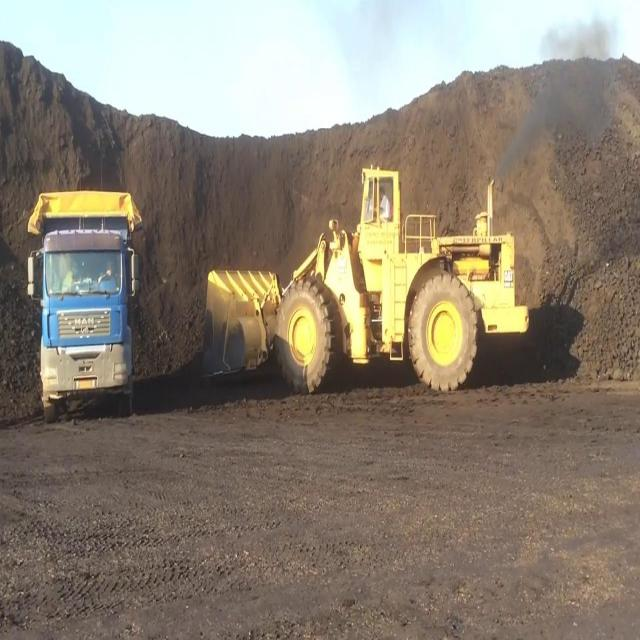buldozerpayloadergrader: (198, 157, 530, 408)
dump_truck: (25, 181, 143, 427)
